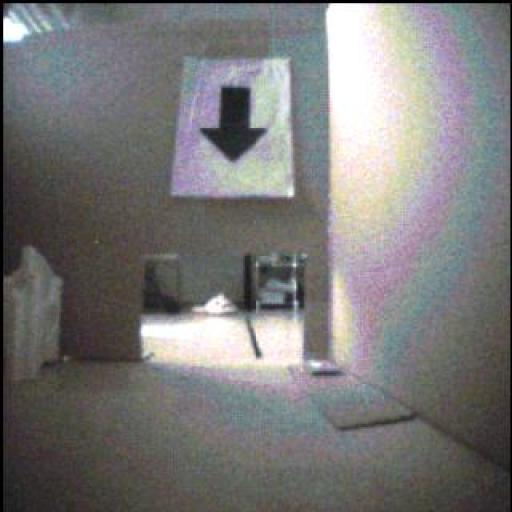arrow: (201, 88, 268, 163)
